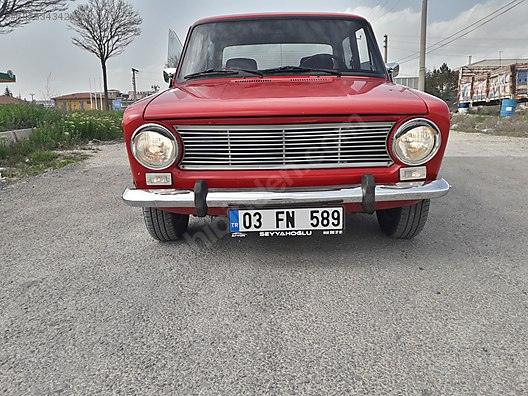murat: (115, 3, 453, 252)
